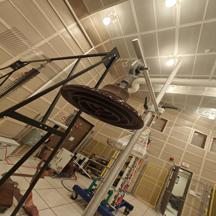insulator: (56, 72, 150, 136)
